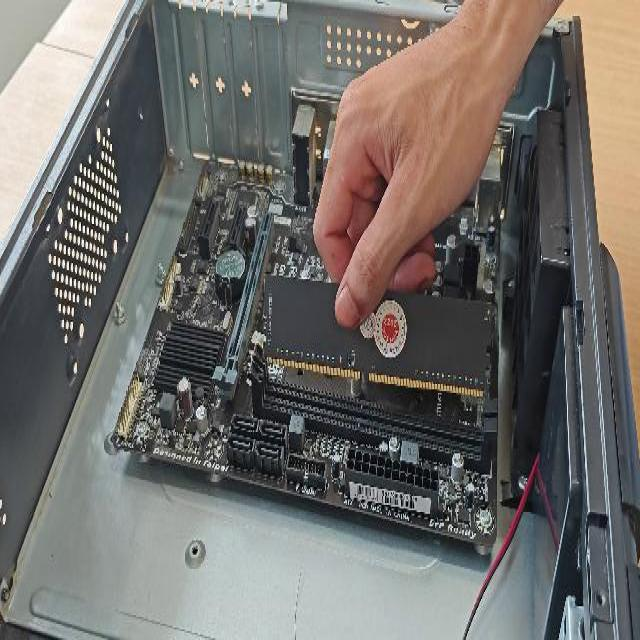Mainboard: (114, 143, 497, 545)
RAM: (262, 269, 493, 401)
